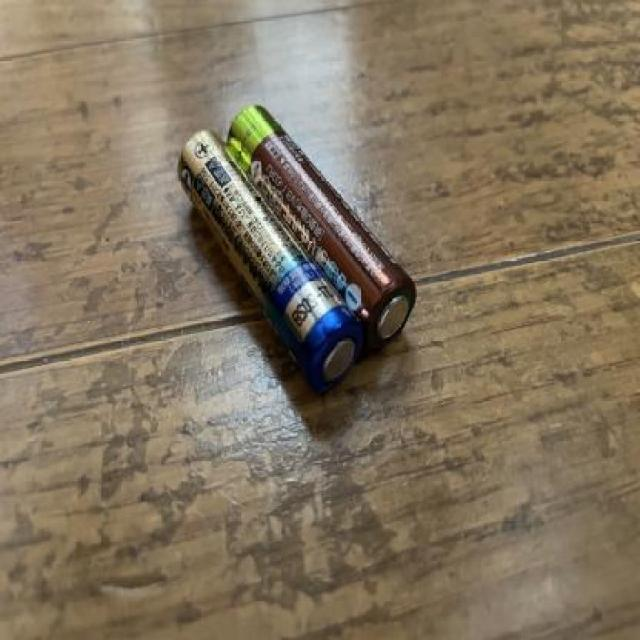hazardous waste: (176, 129, 367, 400), (223, 103, 420, 359)
